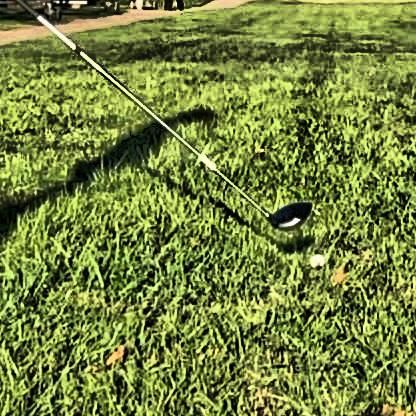golfball: (306, 250, 321, 264)
